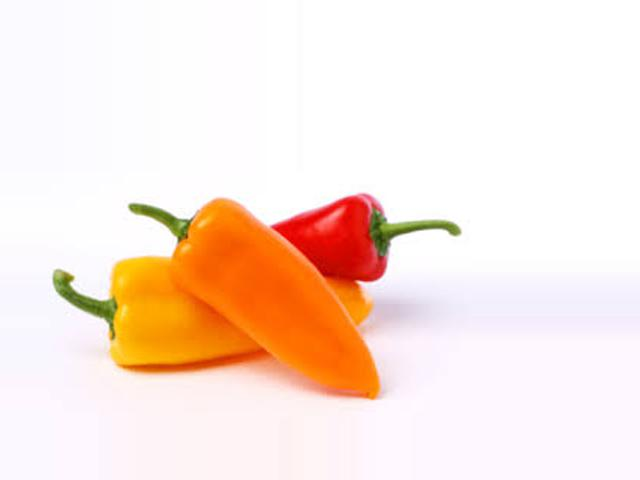bell_pepper: (42, 242, 289, 392)
